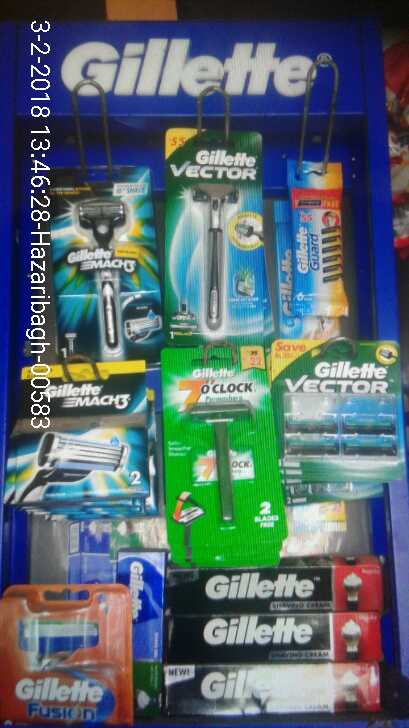gillette: (162, 353, 283, 565), (160, 121, 274, 336), (36, 171, 165, 360), (11, 368, 159, 524), (2, 584, 147, 724), (274, 338, 407, 486), (164, 613, 386, 669), (167, 569, 385, 626), (280, 153, 350, 323)
